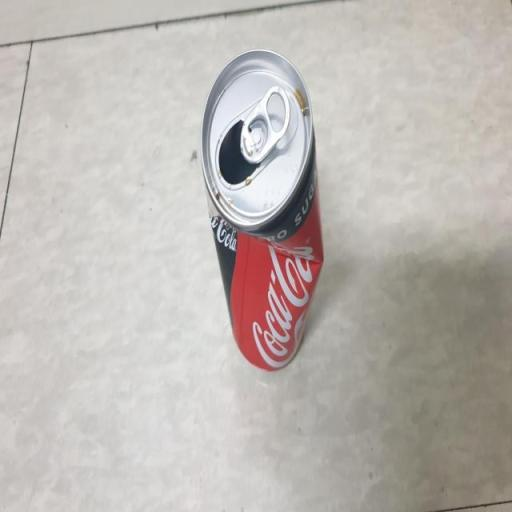metal: (186, 24, 335, 389)
